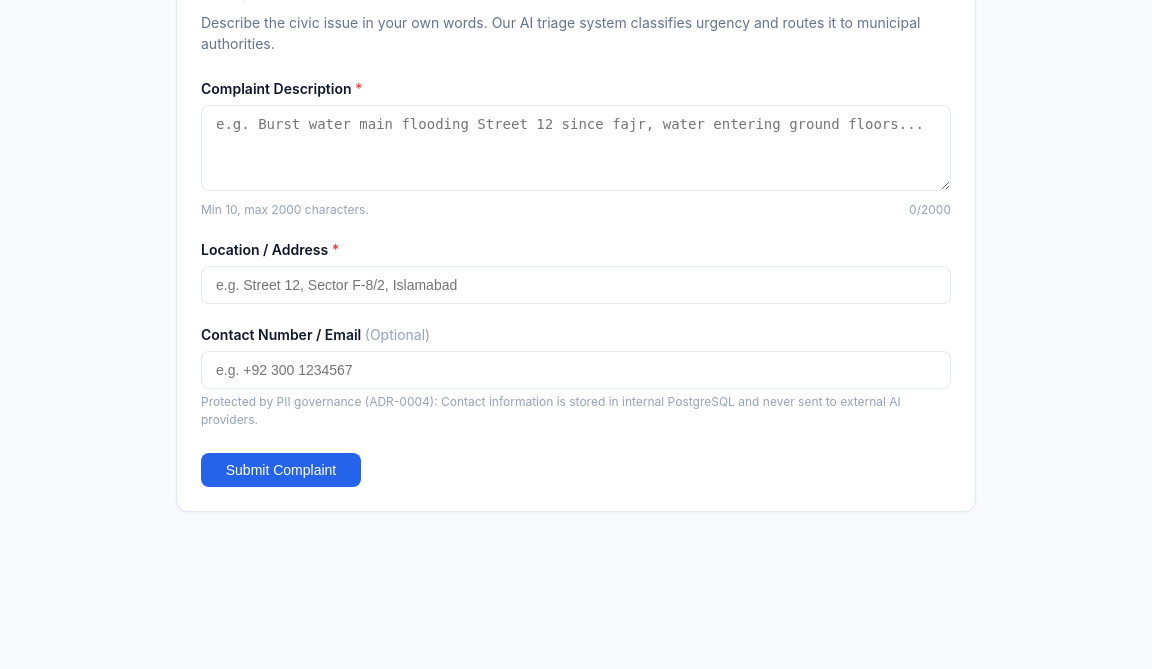
Test: SubmitPage Component › submits valid complaint and displays triage results
Replace the text in the text box with test id "input-text" with "Water pipe leaking badly and entering ground floor" at (576, 148), box [201, 105, 951, 191]
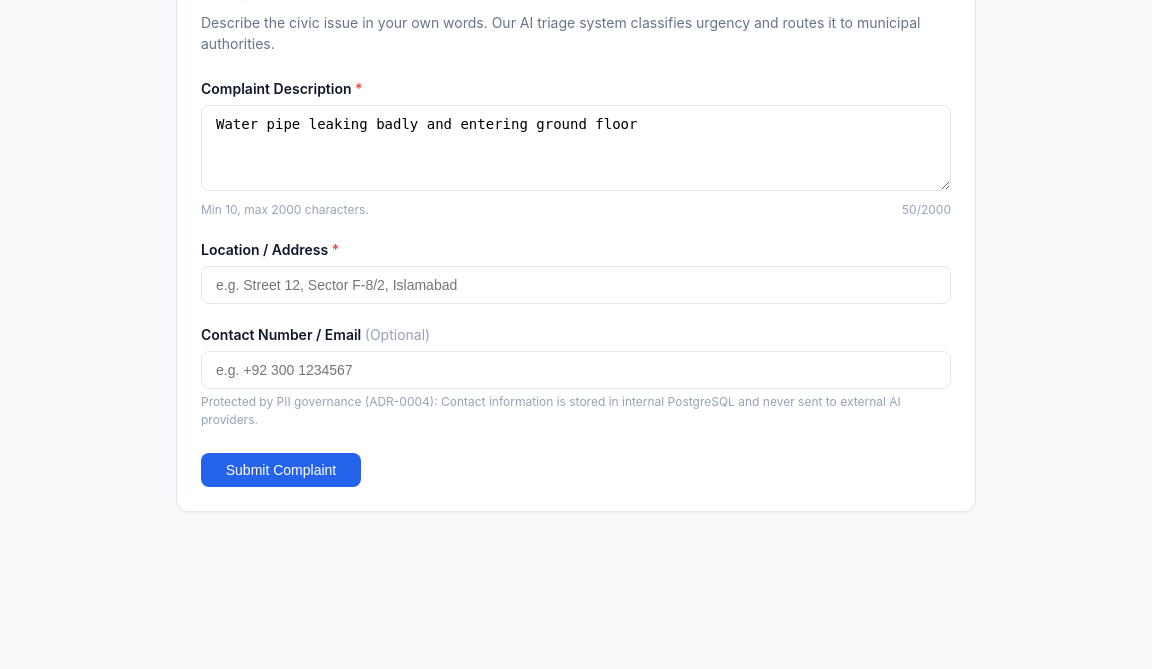
Type "Sector F-8/2, Islamabad" into the field with test id "input-location" at (576, 285), box [201, 266, 951, 304]
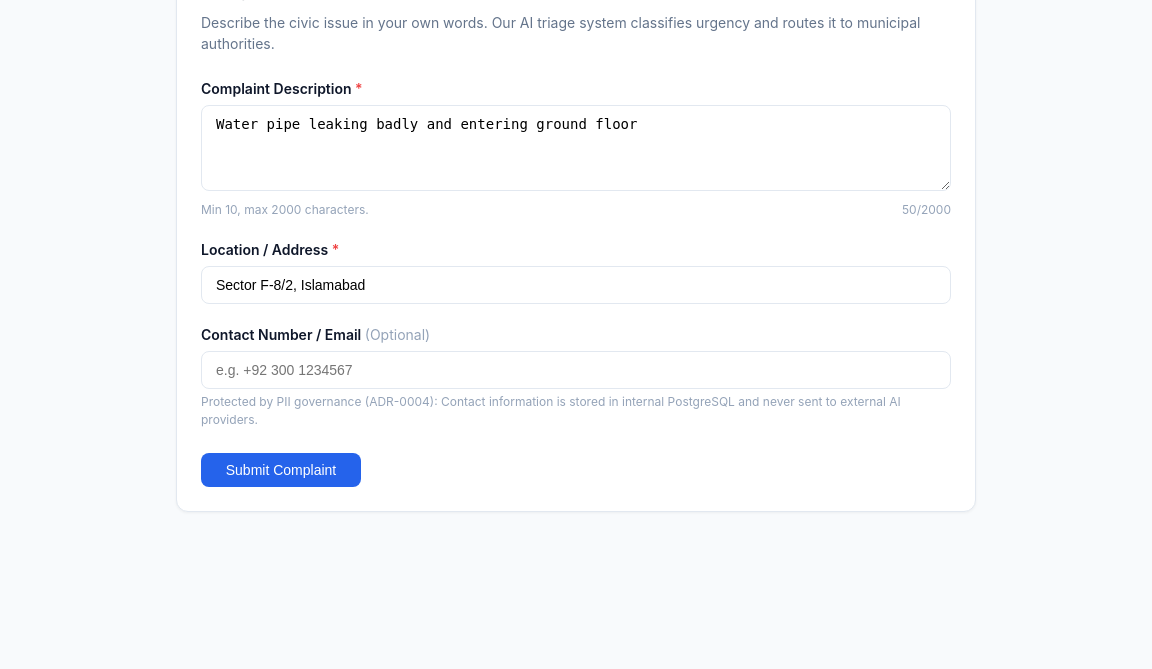
Click the button with test id "btn-submit" at (281, 470), box [201, 453, 361, 487]
(page scrolled)
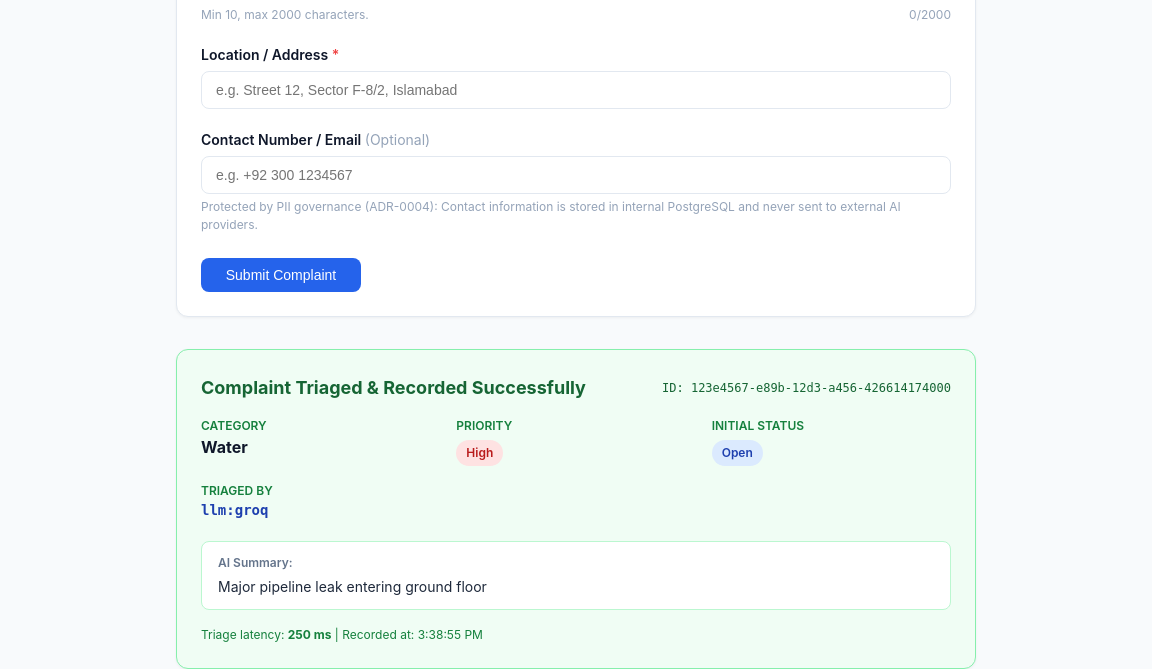
expect the element with test id "triage-result-card" is shown: met, box [176, 349, 976, 668]
expect the text "llm:groq" is shown: met, box [201, 502, 268, 518]
expect the text "Major pipeline leak entering ground floor" is shown: met, box [218, 578, 487, 595]
